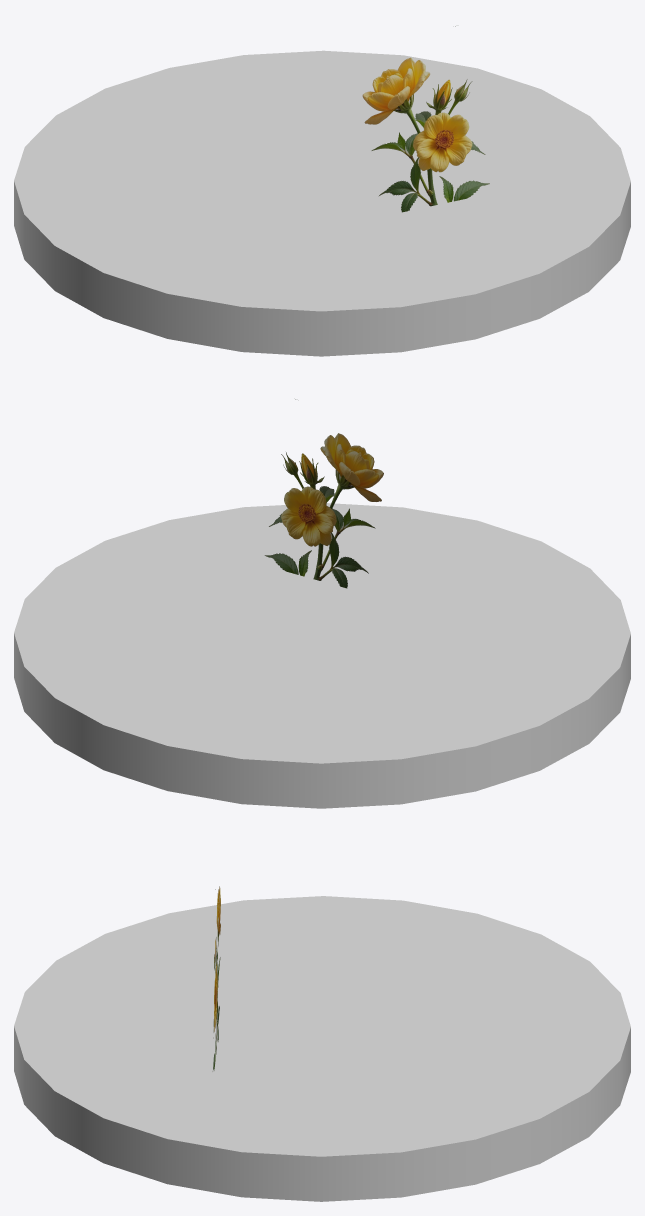
File: garden-home.glb
The picture shows the model from 3 angles, top to bottom: view 1: azimuth 30°, elevation 25°; view 2: azimuth 150°, elevation 25°; view 3: azimuth 270°, elevation 25°; orthographic projection.
Visible parts, largest first — view 1: SketchUp, instance_0; view 2: SketchUp, instance_0; view 3: SketchUp, instance_0.
Part boxes in pixels (x1,y1,x2,y2): SketchUp: (14, 50, 630, 356); instance_0: (362, 26, 489, 212); SketchUp: (14, 503, 630, 808); instance_0: (264, 399, 383, 588); SketchUp: (14, 896, 630, 1201); instance_0: (212, 886, 220, 1071).
Bounding box in the file's own units: 5.08 × 2 × 5.08.
2 materials, 1 textured.
